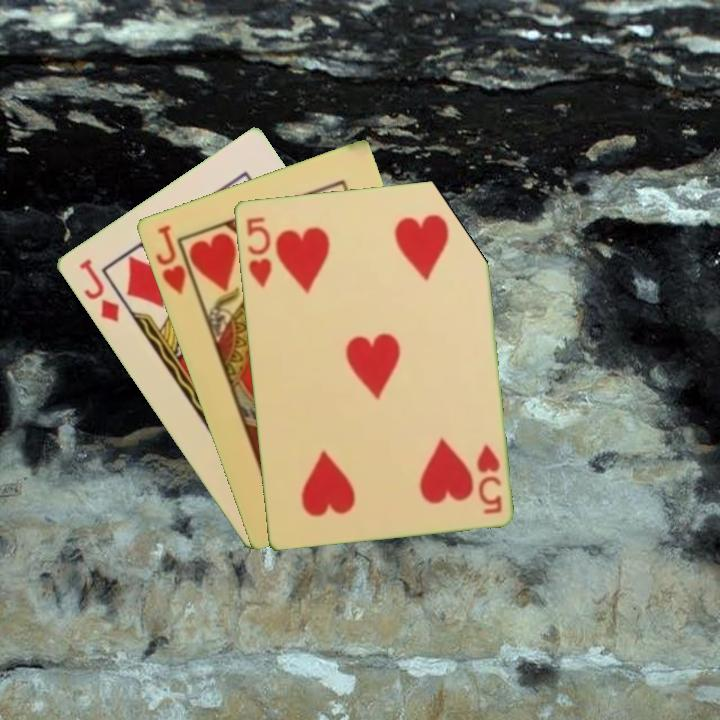5h: (472, 440, 505, 517), (242, 212, 274, 290)
Jd: (75, 255, 122, 325)
Jh: (151, 221, 188, 297)
